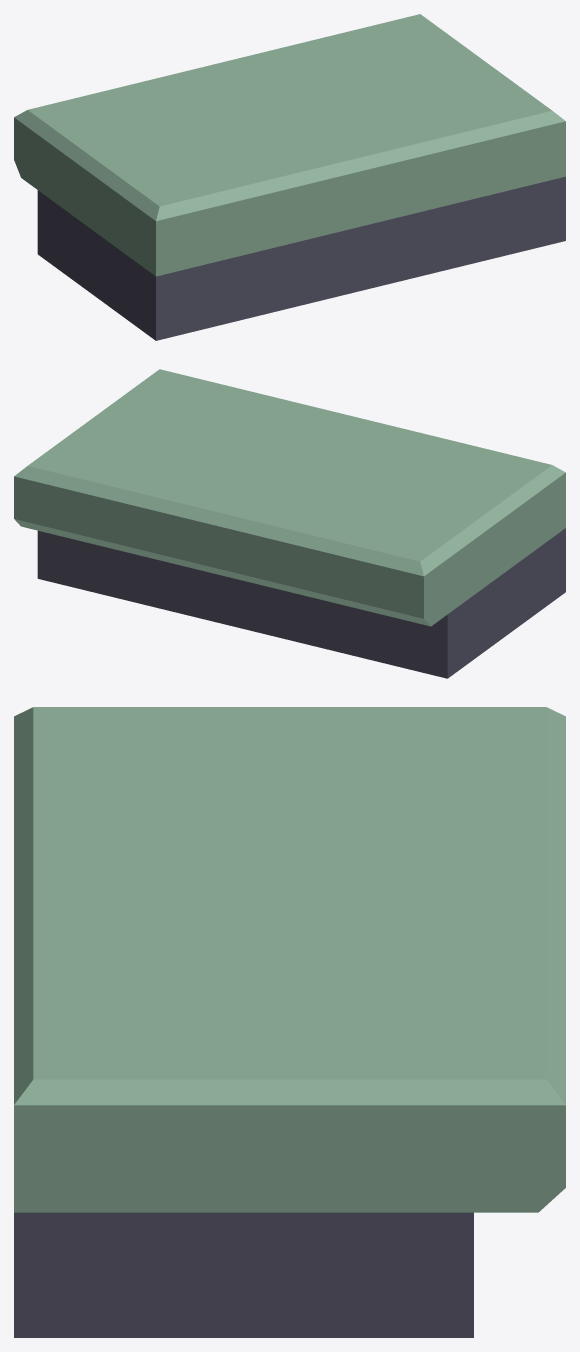
Rendered from backTile.fbx.
The picture shows the model from 3 angles, top to bottom: view 1: azimuth 30°, elevation 25°; view 2: azimuth 150°, elevation 25°; view 3: azimuth 270°, elevation 25°; orthographic projection. The views are drawn at different scales.
Parts seen in each view (by area): view 1: backTile; view 2: backTile; view 3: backTile.
Part boxes in pixels (x1=…): backTile: x1=14, y1=14, x2=565, y2=340; backTile: x1=14, y1=369, x2=565, y2=678; backTile: x1=14, y1=707, x2=565, y2=1337.
Bounding box in the file's own units: 100 × 30 × 60.
